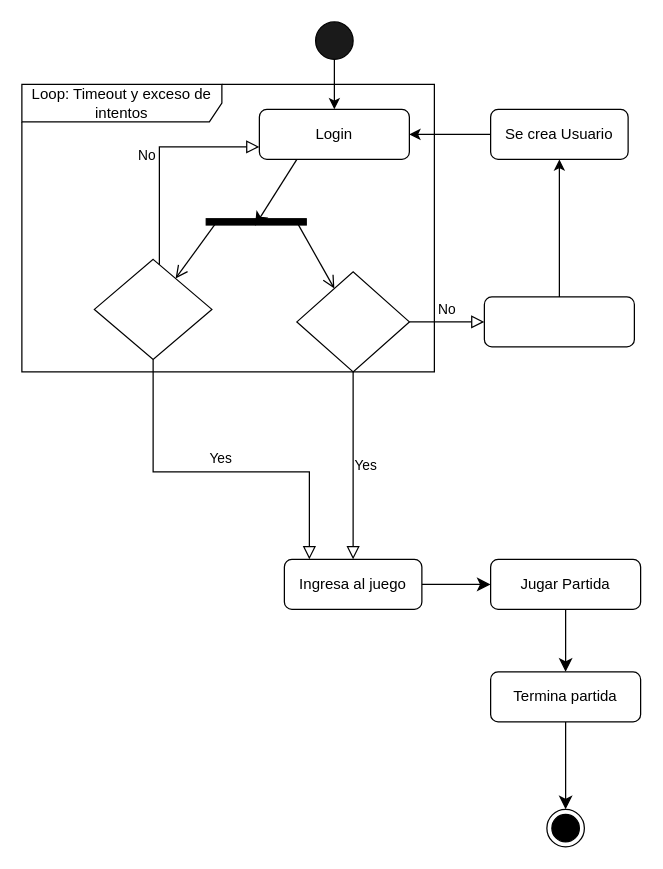
This 663x869 diagram has some shape labels left out. Here are the shapes that lost their labels. From the top down, the centre of each, then its label:
point (152, 308): La contraseña es correcta
point (352, 321): Tiene cuenta existente?
point (558, 321): Registrar
